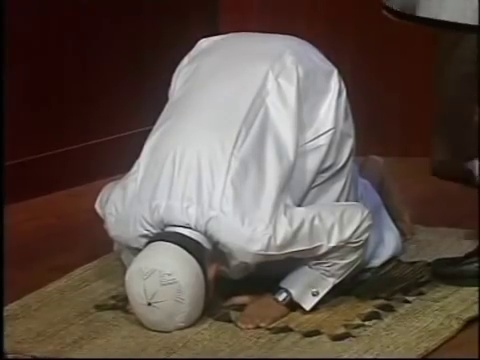sujud: (94, 29, 411, 329)
